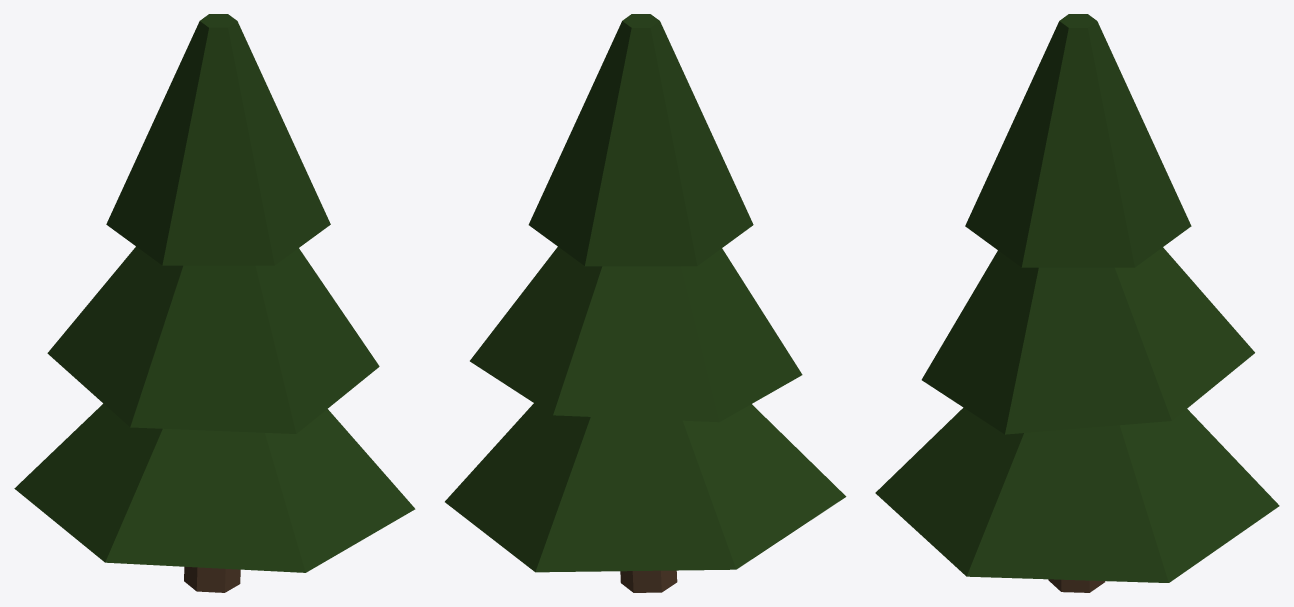
The model's file is tree.glb.
3 views of the same model, side by side, from view 1: azimuth 30°, elevation 25°; view 2: azimuth 150°, elevation 25°; view 3: azimuth 270°, elevation 25° (orthographic).
Visible parts, largest first — view 1: Cylinder.001; view 2: Cylinder.001; view 3: Cylinder.001.
Boxes of the visible parts, x1,y1,x2,y2 form: Cylinder.001: (14,14,415,592); Cylinder.001: (445,14,846,592); Cylinder.001: (875,14,1279,592).
Size of the model in its own units: 3.19 by 5.5 by 3.57.
